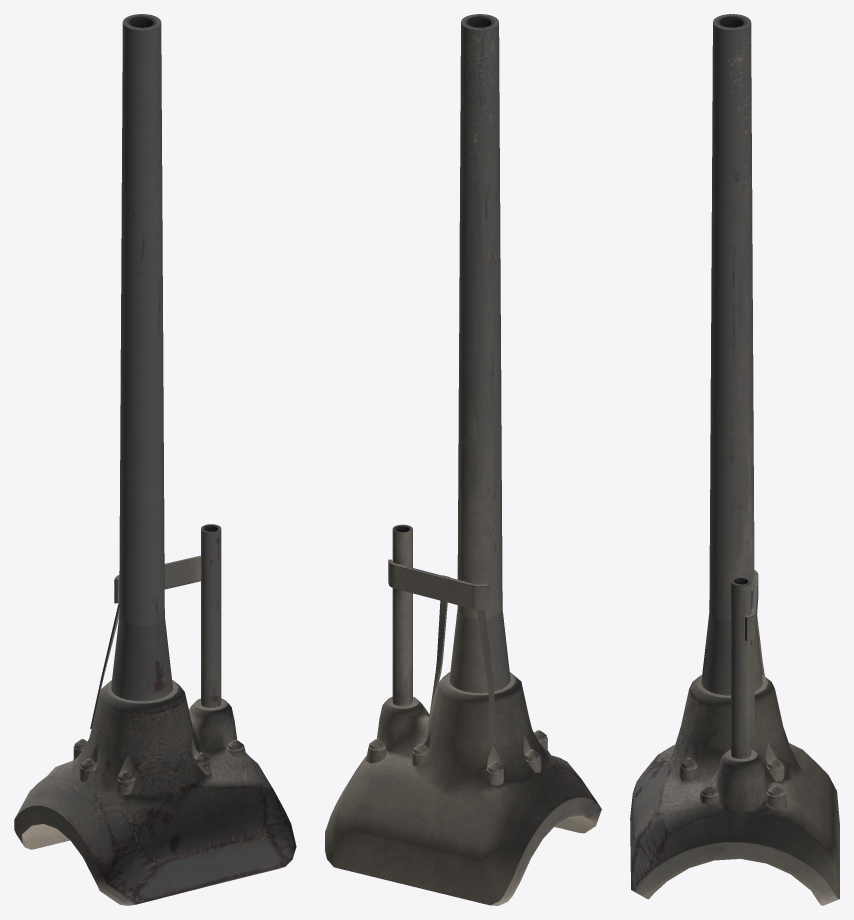
File: Gun_01.glb
3 renders of one model, left to right at view 1: azimuth 30°, elevation 25°; view 2: azimuth 150°, elevation 25°; view 3: azimuth 270°, elevation 25°, orthographic.
Visible parts, largest first — view 1: set_0_group_0; view 2: set_0_group_0; view 3: set_0_group_0.
Boxes of the visible parts, x1,y1,x2,y2 form: set_0_group_0: (14,14,296,905); set_0_group_0: (325,14,601,905); set_0_group_0: (630,14,839,905).
Bounding box in the file's own units: 1.19 × 5.01 × 1.14.
Materials: 1 (1 with a texture image).
